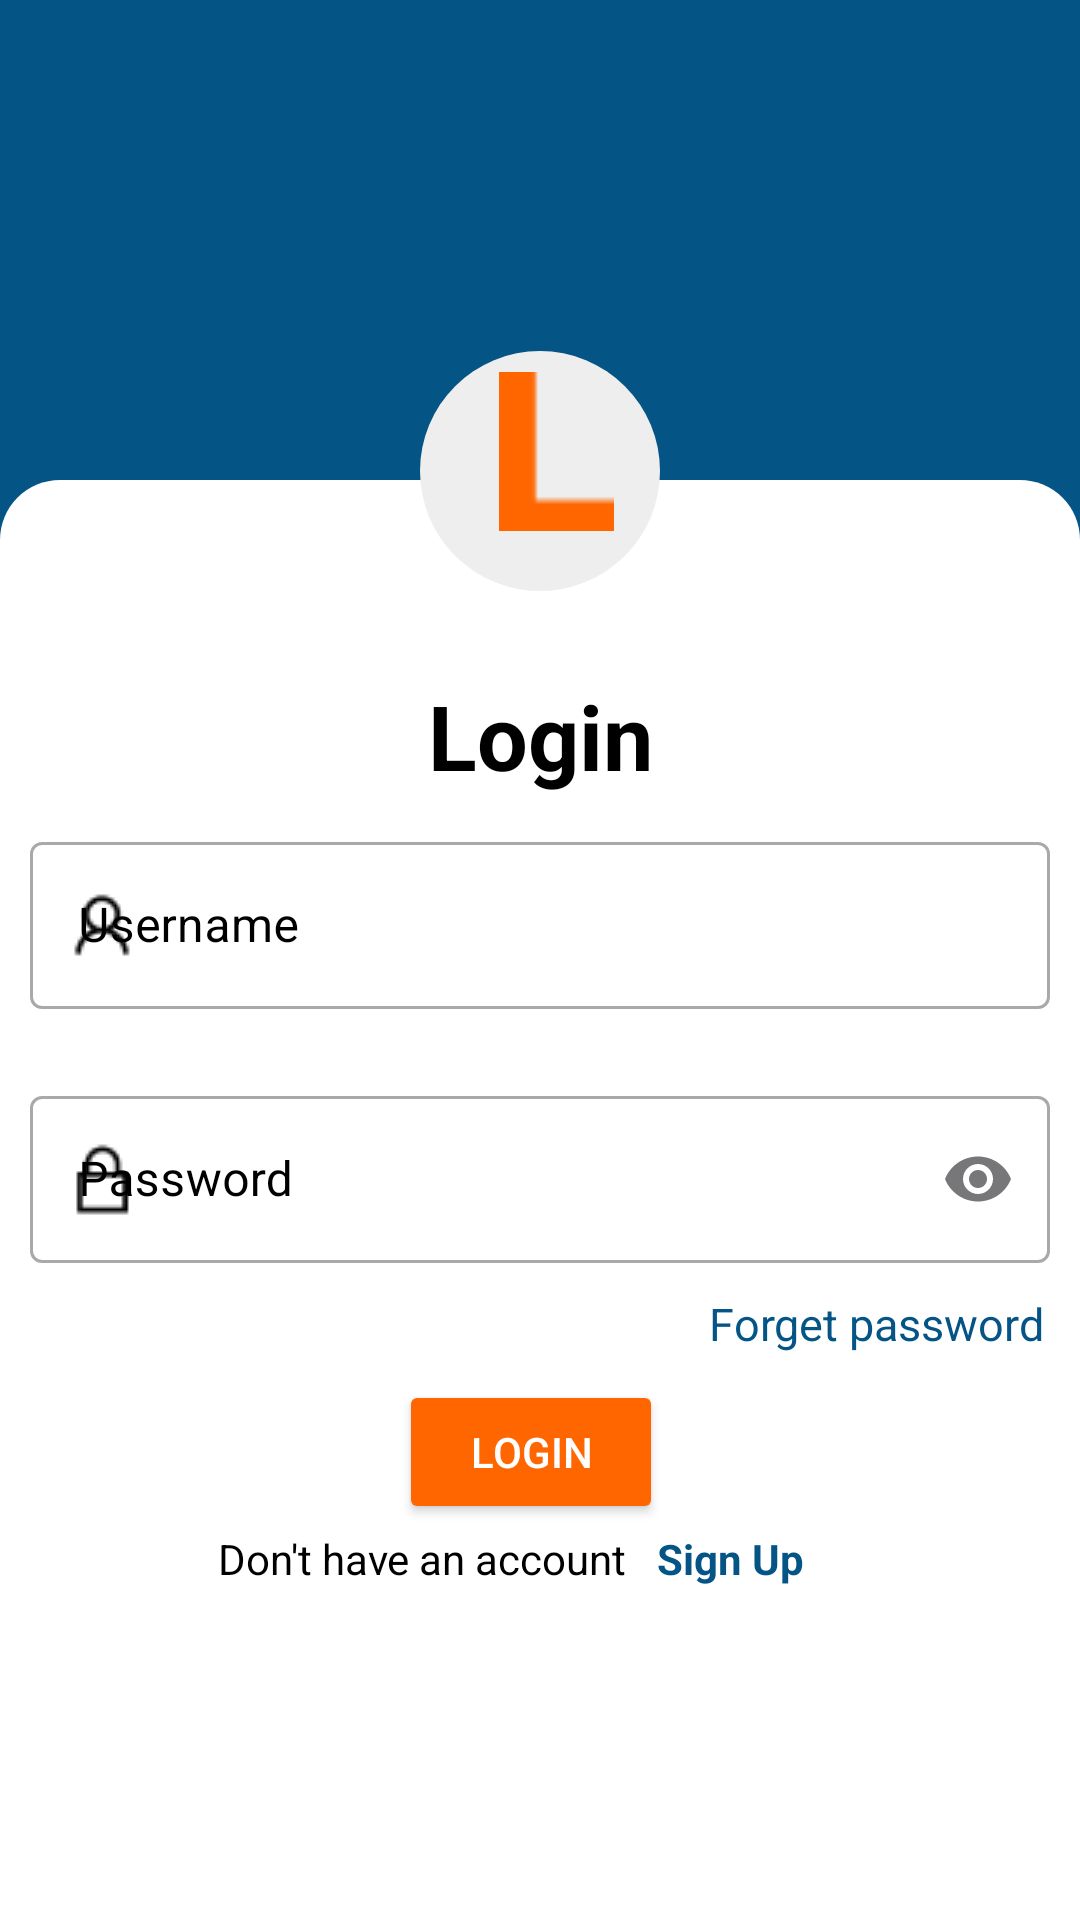

Icons on this 1080x1920 Android screen, each with the point to tap as (x=x, y=y):
cricle shape: (x=540, y=471)
